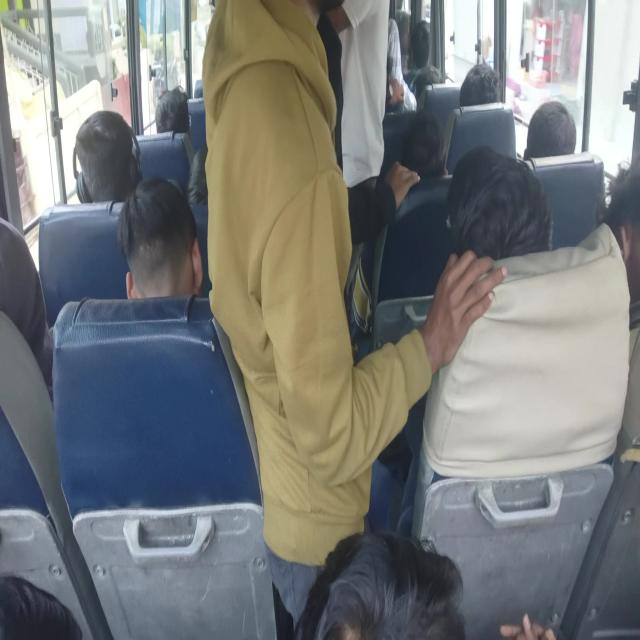person: (207, 0, 331, 189), (323, 0, 395, 235), (309, 530, 463, 637), (444, 145, 554, 266), (602, 152, 640, 451), (118, 177, 202, 300), (0, 210, 55, 397), (448, 63, 521, 161), (76, 122, 144, 203), (0, 575, 83, 639), (523, 100, 578, 160), (399, 110, 446, 179), (154, 87, 190, 137), (412, 65, 444, 105)
